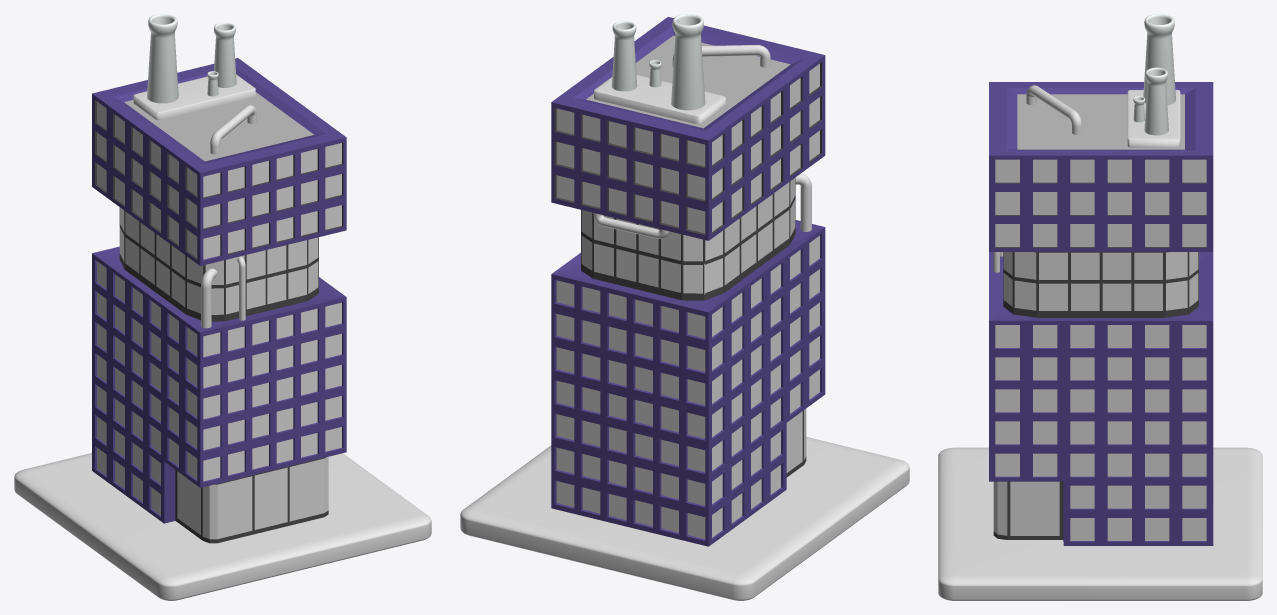
File: industrygebouw.fbx
3 renders of one model, left to right at view 1: azimuth 30°, elevation 25°; view 2: azimuth 150°, elevation 25°; view 3: azimuth 270°, elevation 25°, orthographic. The views are drawn at different scales.
Parts seen in each view (by area): view 1: kantoor, Cube, Cube.001, Cylinder.002, Cylinder.001, Cylinder.004, Cylinder.005; view 2: kantoor, Cube, Cylinder.002, Cube.001, Cylinder.001, Cylinder.004, Cylinder.007, Cylinder.005; view 3: kantoor, Cube, Cylinder.002, Cube.001, Cylinder.001, Cylinder.004.
Boxes of the visible parts, x1,y1,x2,y2 form: kantoor: [92, 58, 346, 543]; Cube: [14, 453, 431, 600]; Cube.001: [133, 74, 255, 120]; Cylinder.002: [147, 14, 178, 103]; Cylinder.001: [214, 22, 236, 87]; Cylinder.004: [210, 105, 256, 154]; Cylinder.005: [201, 268, 217, 328]; kantoor: [551, 17, 825, 546]; Cube: [460, 437, 909, 600]; Cylinder.002: [671, 14, 705, 110]; Cube.001: [594, 75, 725, 124]; Cylinder.001: [611, 21, 637, 91]; Cylinder.004: [672, 45, 770, 67]; Cylinder.007: [593, 213, 669, 238]; Cylinder.005: [795, 173, 811, 231]; kantoor: [989, 82, 1213, 545]; Cube: [938, 447, 1262, 600]; Cylinder.002: [1143, 14, 1175, 105]; Cube.001: [1127, 90, 1180, 147]; Cylinder.001: [1144, 67, 1168, 135]; Cylinder.004: [1026, 85, 1081, 134].
Bounding box in the file's own units: 557 × 948 × 557.
